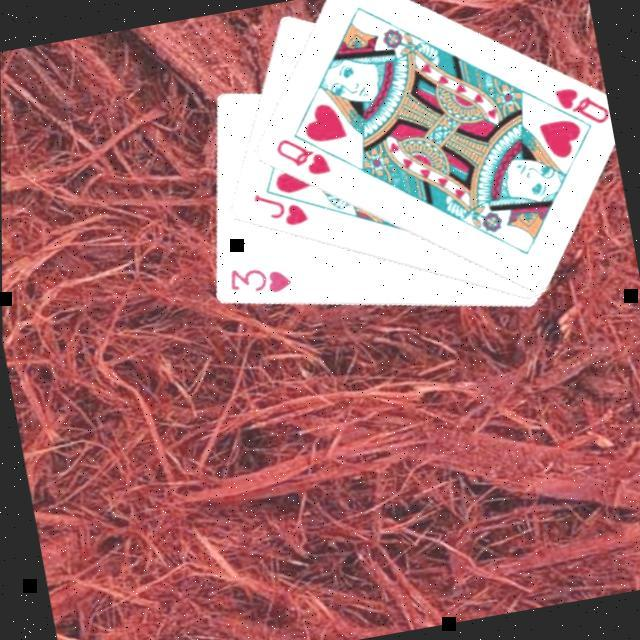3H: (223, 255, 296, 302)
JH: (248, 181, 312, 234)
QH: (535, 76, 611, 138), (270, 128, 333, 184)
